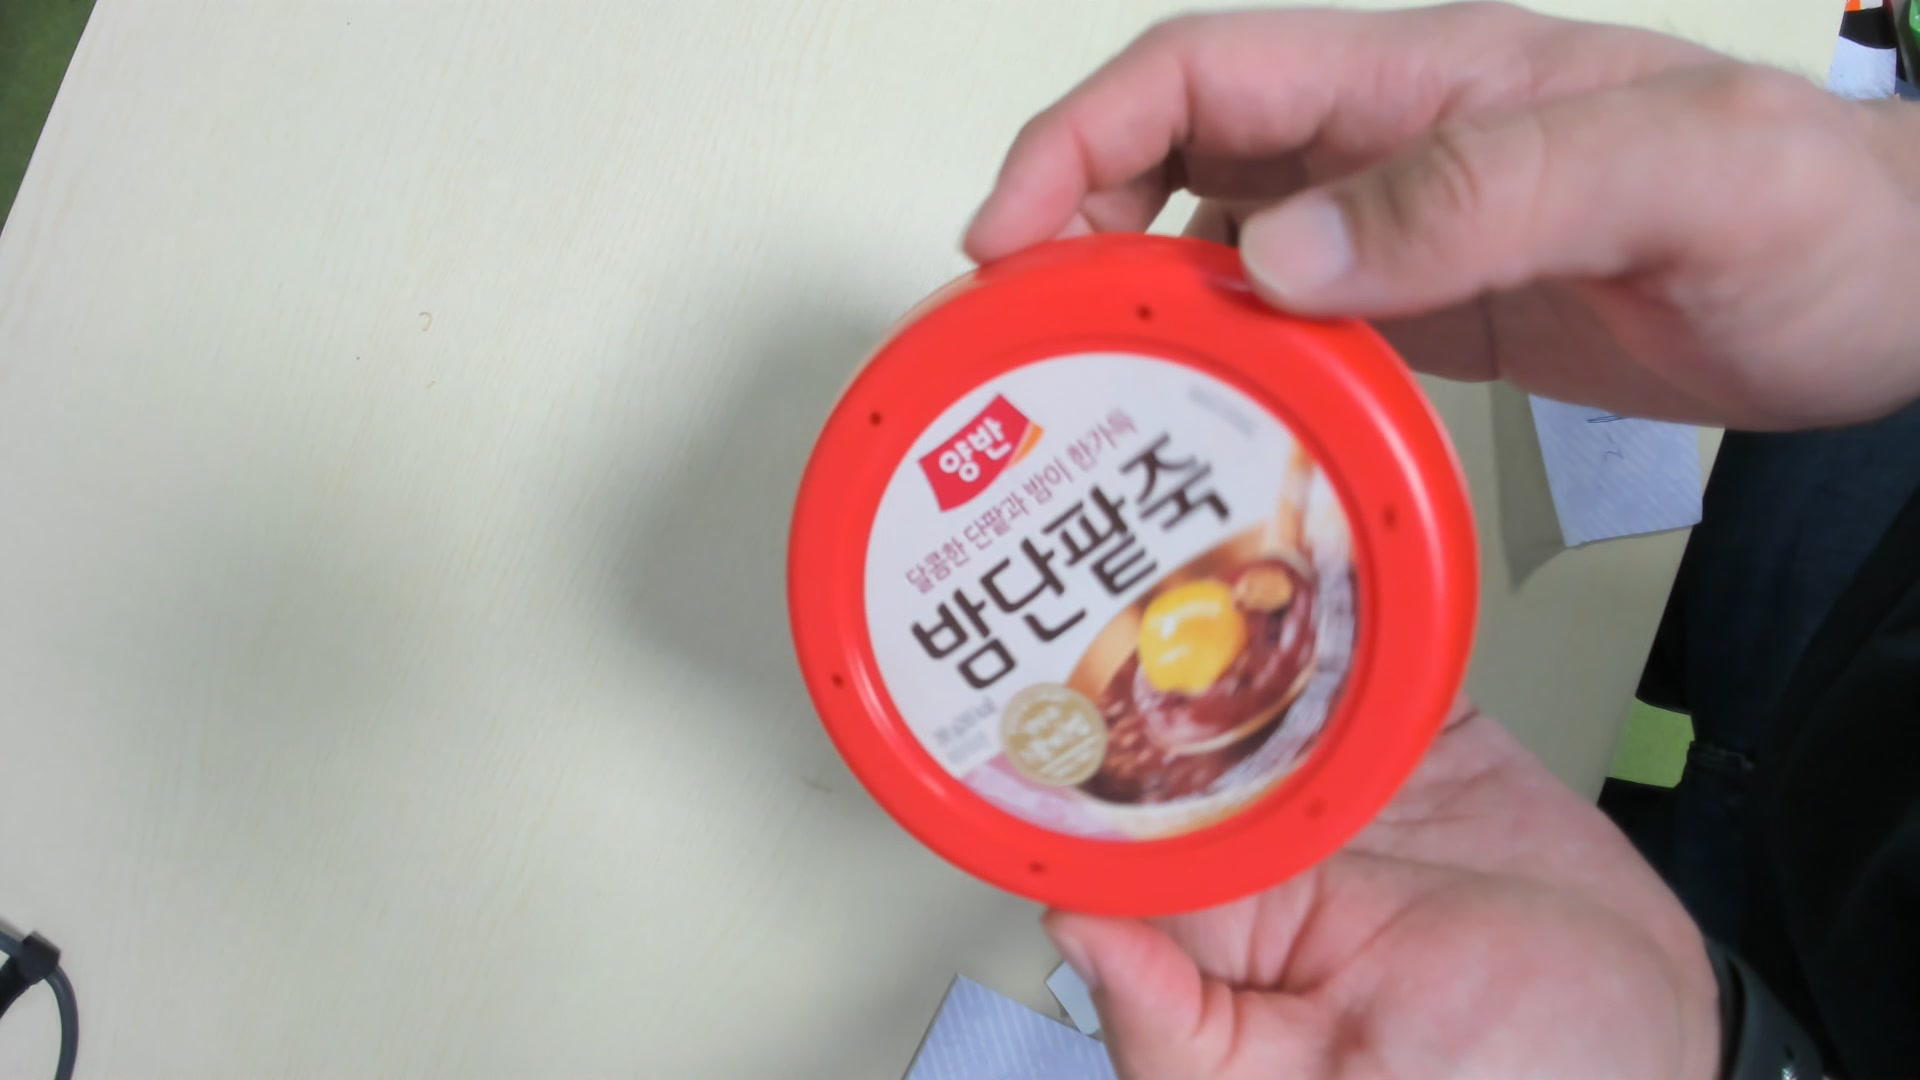InstantMeals_200_299g_NonHalal_NonHealthy: (783, 247, 1484, 919)
